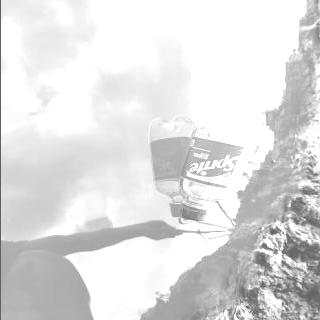bottle: (176, 112, 263, 222)
